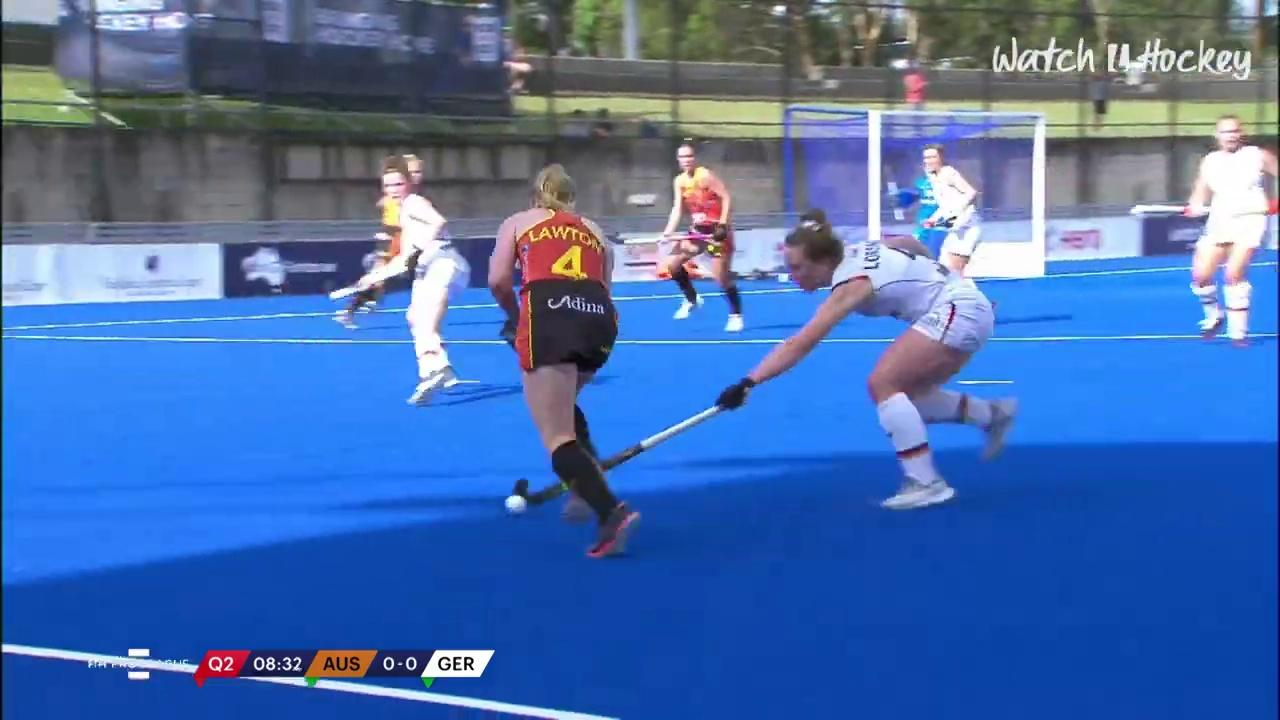ball: (491, 482, 550, 525)
